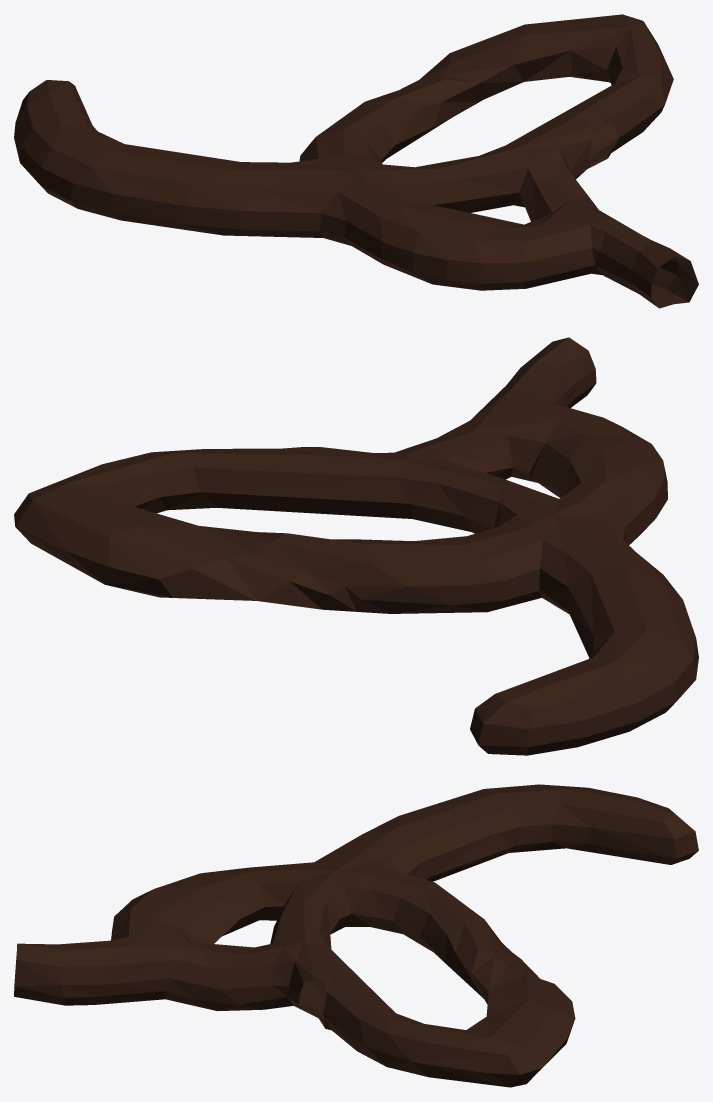
The model's file is 1cave.fbx.
3 views of the same model, one above another, from view 1: azimuth 30°, elevation 25°; view 2: azimuth 150°, elevation 25°; view 3: azimuth 270°, elevation 25° (orthographic). The views are drawn at different scales.
Visible parts, largest first — view 1: Cube; view 2: Cube; view 3: Cube.
Part boxes in pixels (x1,y1,x2,y2): Cube: (14, 14, 698, 308); Cube: (14, 337, 698, 755); Cube: (14, 784, 698, 1087).
Size of the model in its own units: 6242 by 627 by 6450.
